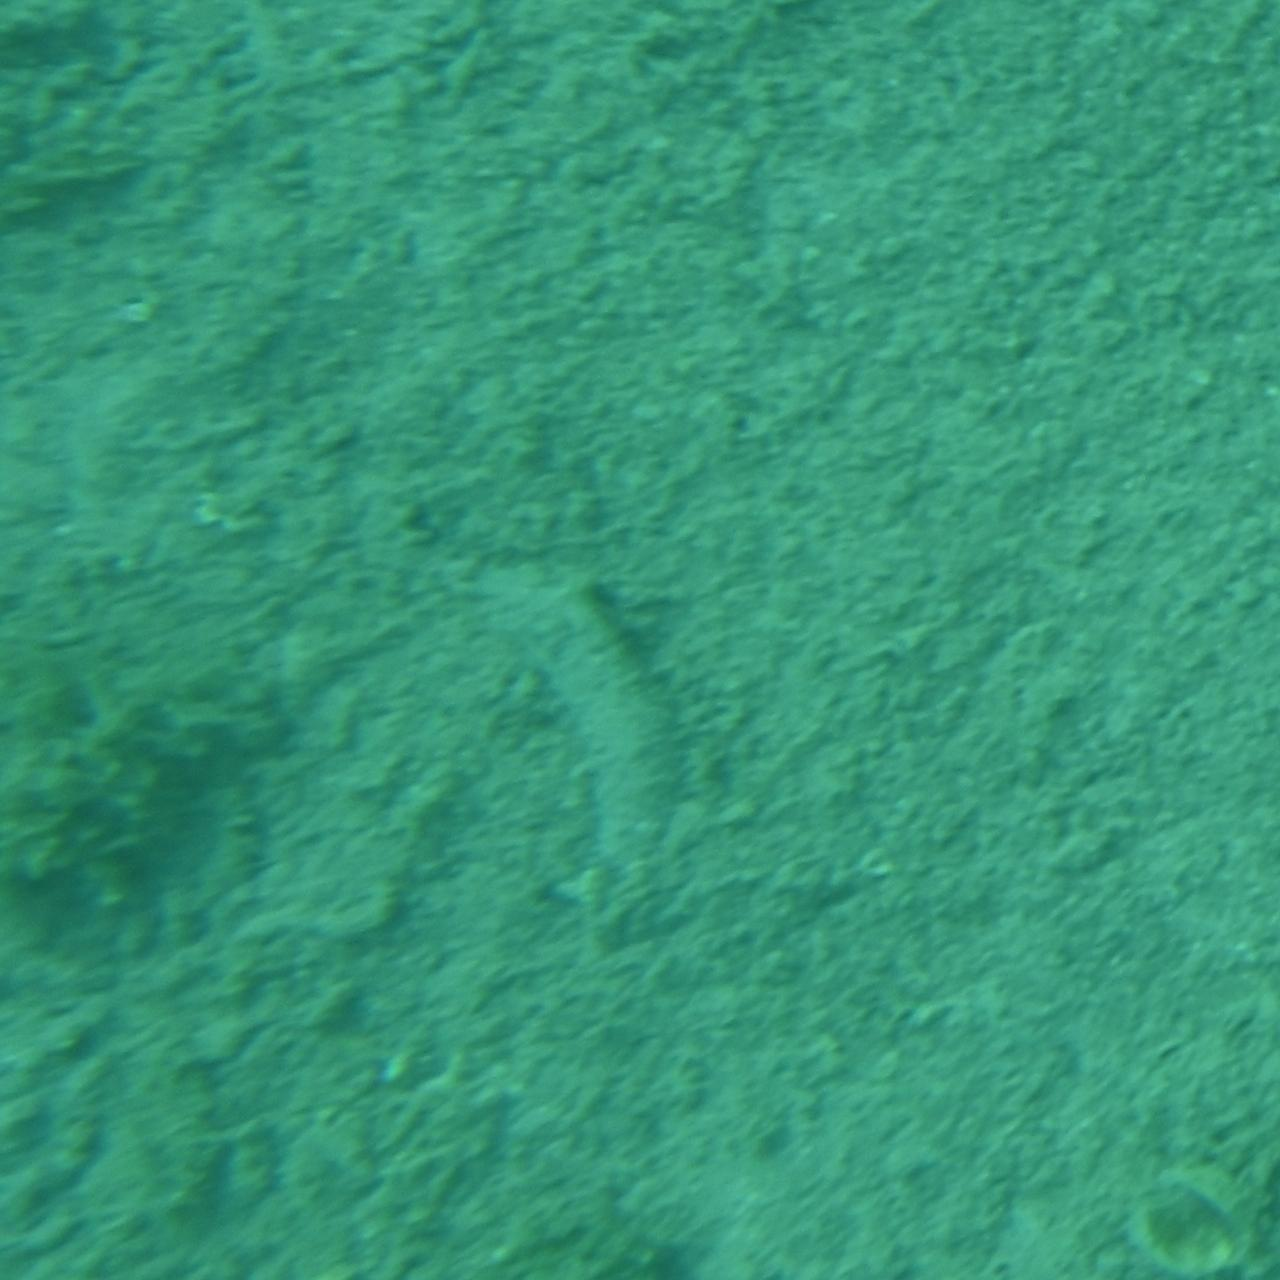Holothuria tubulosa: (456, 565, 649, 907), (726, 543, 730, 545)
